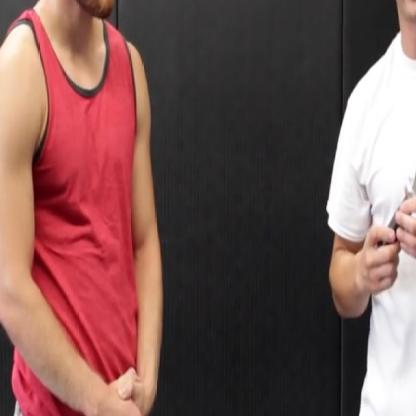knife: (377, 86, 415, 256)
